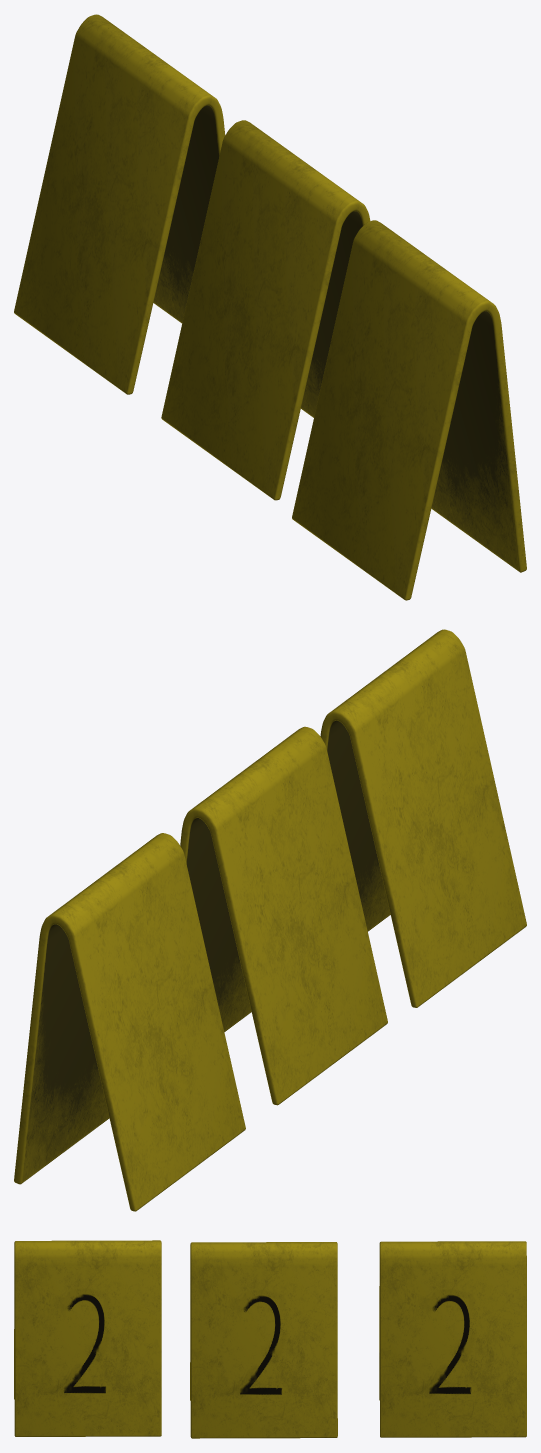
File: crime.fbx
3 views of the same model, one above another, from view 1: azimuth 30°, elevation 25°; view 2: azimuth 150°, elevation 25°; view 3: azimuth 270°, elevation 25° (orthographic). The views are drawn at different scales.
Parts seen in each view (by area): view 1: Plane.001, Plane, Plane.002; view 2: Plane, Plane.002, Plane.001; view 3: Plane, Plane.001, Plane.002.
Part boxes in pixels (<box>): Plane.001: <box>292,220,526,600</box>; Plane: <box>14,14,225,394</box>; Plane.002: <box>161,120,370,500</box>; Plane: <box>14,833,245,1211</box>; Plane.002: <box>180,726,387,1105</box>; Plane.001: <box>320,629,526,1007</box>; Plane: <box>379,1241,526,1437</box>; Plane.001: <box>14,1240,161,1436</box>; Plane.002: <box>190,1242,337,1438</box>.
Bounding box in the file's own units: 115 × 238 × 607.
